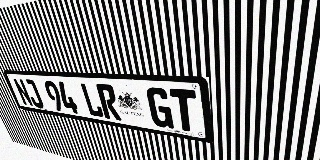4: (55, 81, 79, 114)
9: (42, 80, 66, 112)
G: (146, 87, 174, 129)
J: (23, 79, 45, 108)
L: (79, 83, 105, 118)
N: (12, 78, 34, 107)
R: (95, 84, 122, 121)
T: (169, 88, 199, 133)
